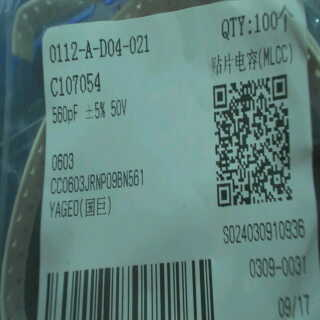560pF: (47, 105, 80, 129)
